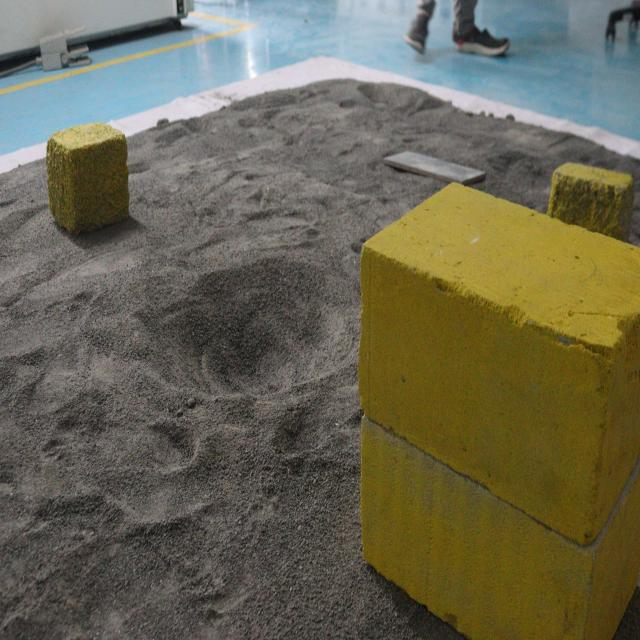box: (360, 171, 640, 640), (41, 114, 126, 238)
crater: (126, 250, 357, 416)
